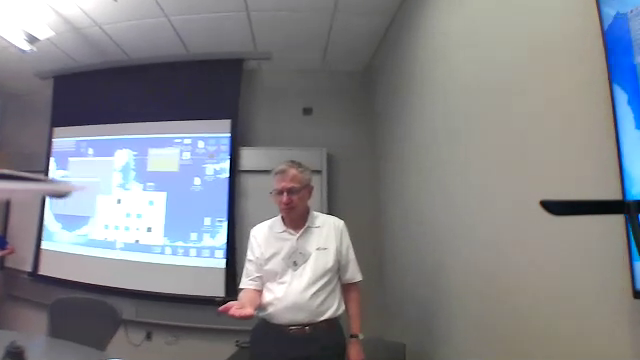land: (217, 296, 257, 323)
